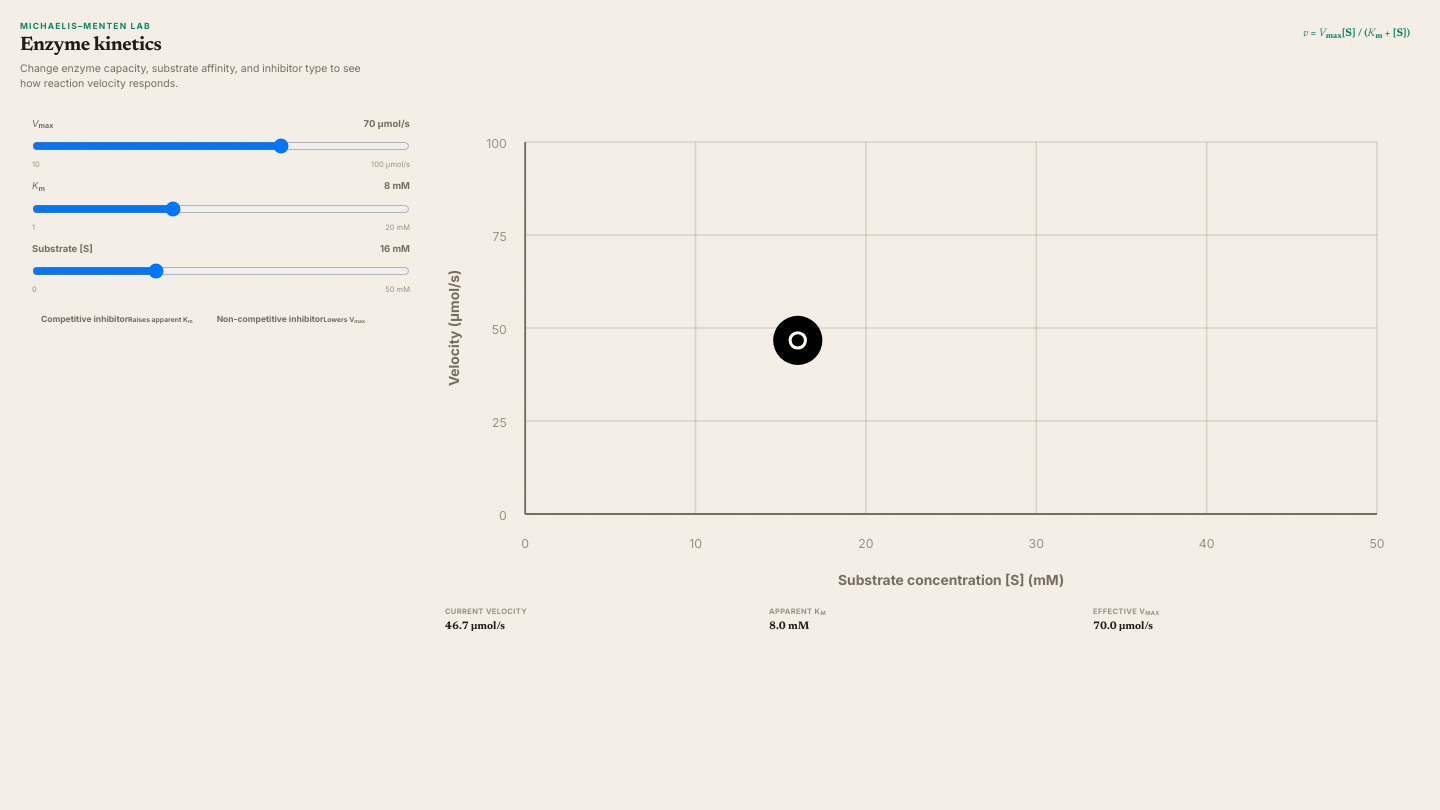
Scenario: interactive STEM simulations › updates Michaelis–Menten velocity and inhibitor parameters
Expected: the text with test id "enzyme-velocity" shows "46.7", [445,621,469,632]
Set the slider labelled "Substrate [S] 16 mM" to "40" at (330, 271), box [32,262,410,280]
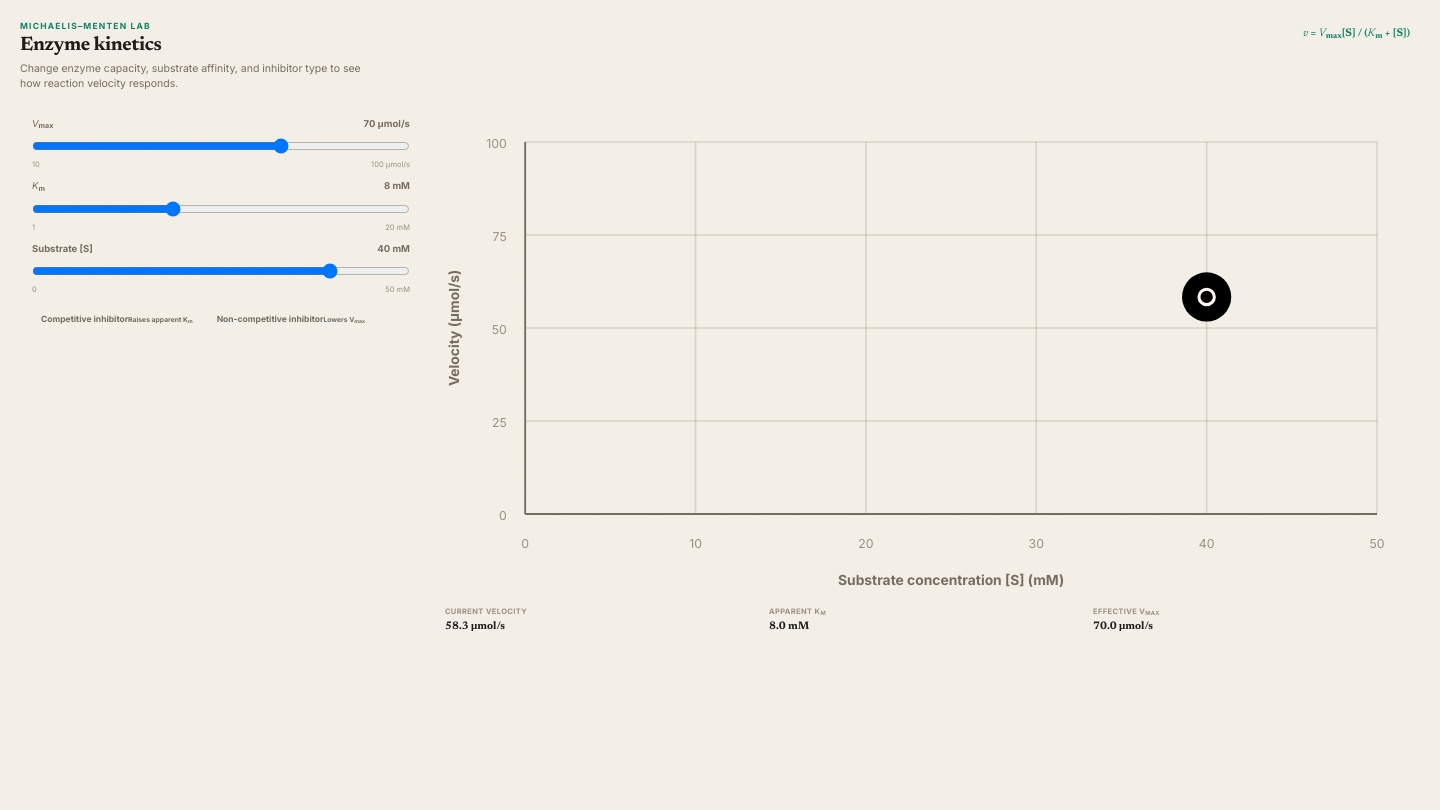
Expected: the text with test id "enzyme-velocity" shows "58.3", [445,621,469,632]
Click the button "Competitive inhibitor".
click(117, 320)  # box [32,305,202,335]
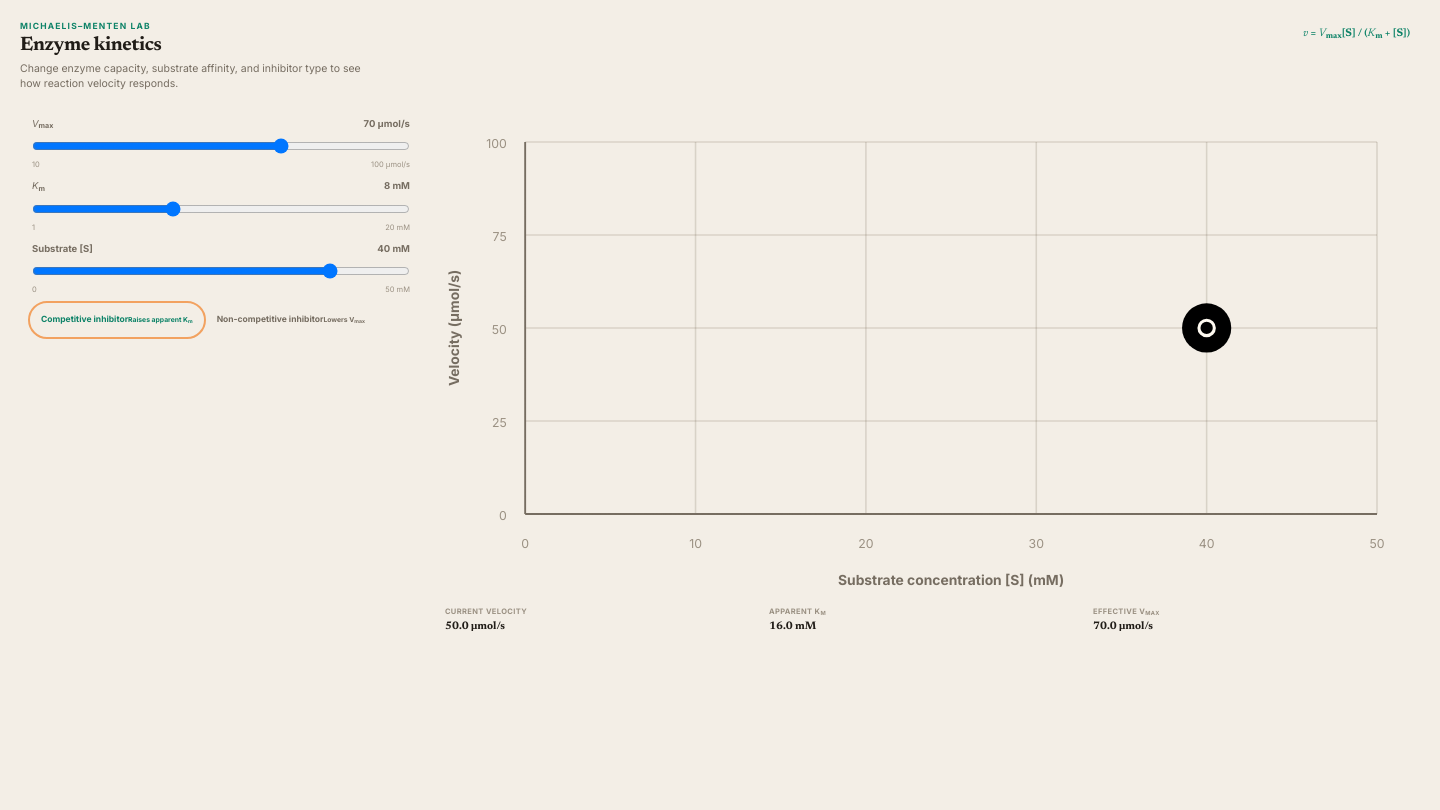
Expected: the text "16.0 mM" is shown, [769,621,816,632]
